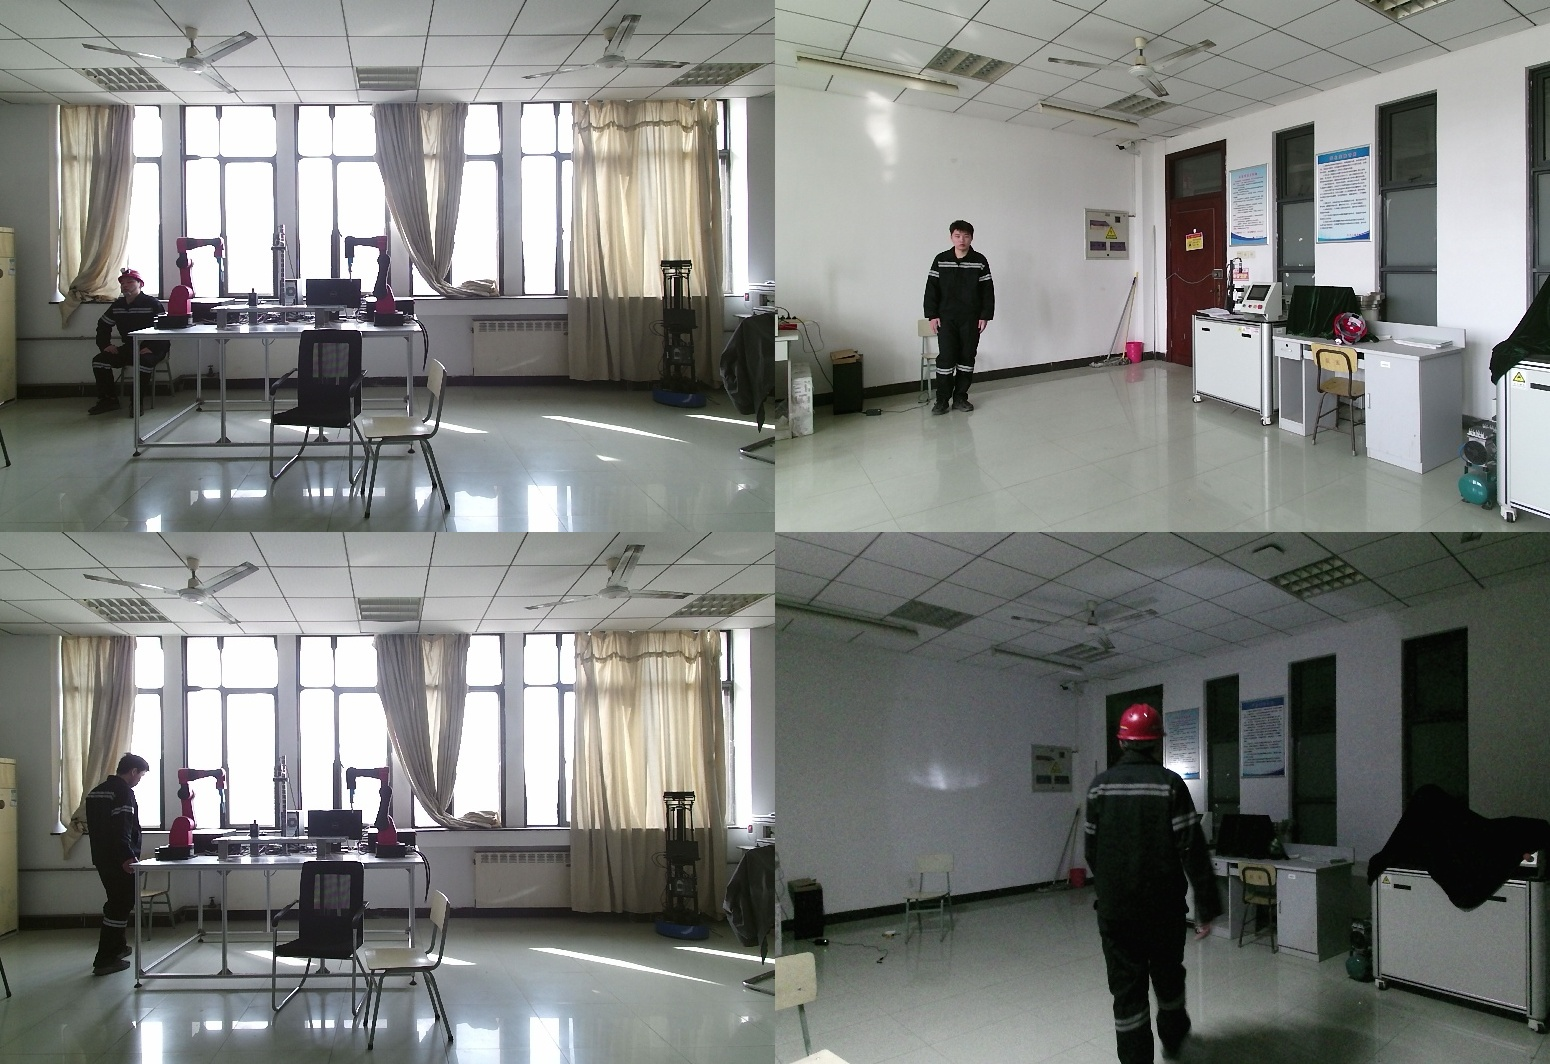person: (1071, 693, 1261, 1064), (919, 223, 995, 421), (83, 755, 150, 977), (80, 270, 179, 415)
